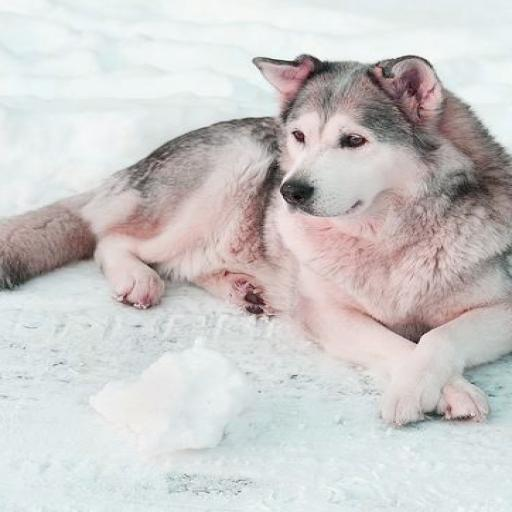dog_face: (245, 50, 461, 228)
